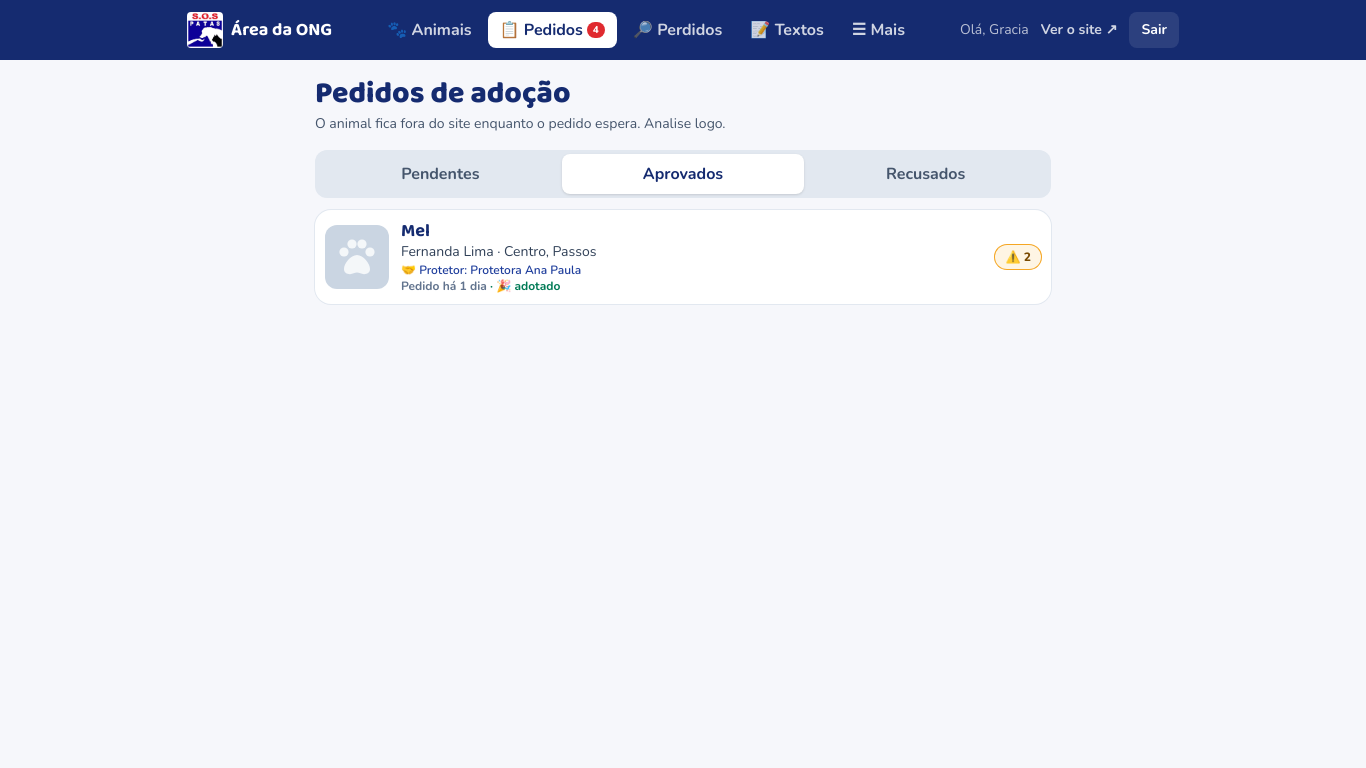
Scenario: Análise do pedido (T28) › pedido de animal já adotado: "Adoção concluída", ainda com a impressão
Expected: the text "· 🎉 adotado" is shown, [487,278,560,294]
Click the link "Fernanda Lima" at (357, 257), box [315,210,1051,304]
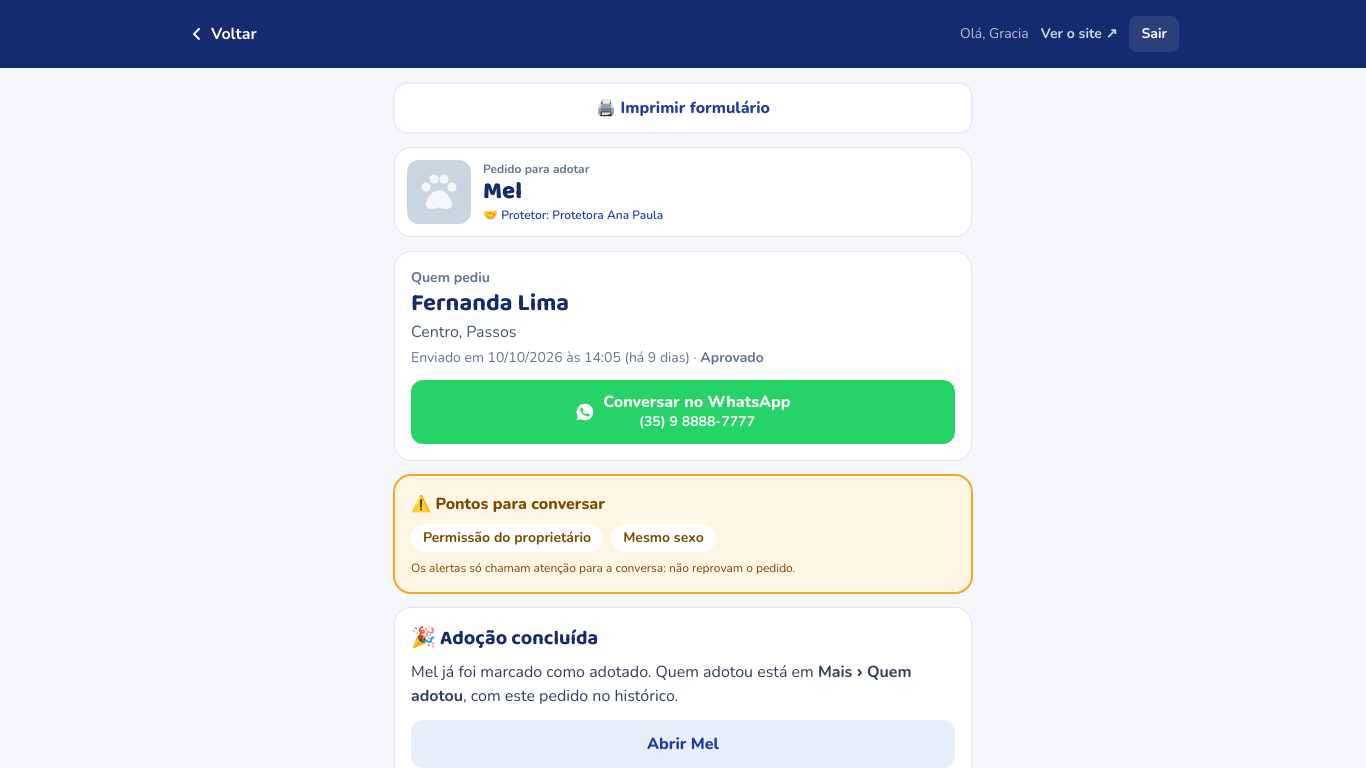
Result: the heading "🎉 Adoção concluída" is shown at [411,622,598,654]
Result: the button "🖨️ Imprimir formulário" is shown at [395,84,971,132]
